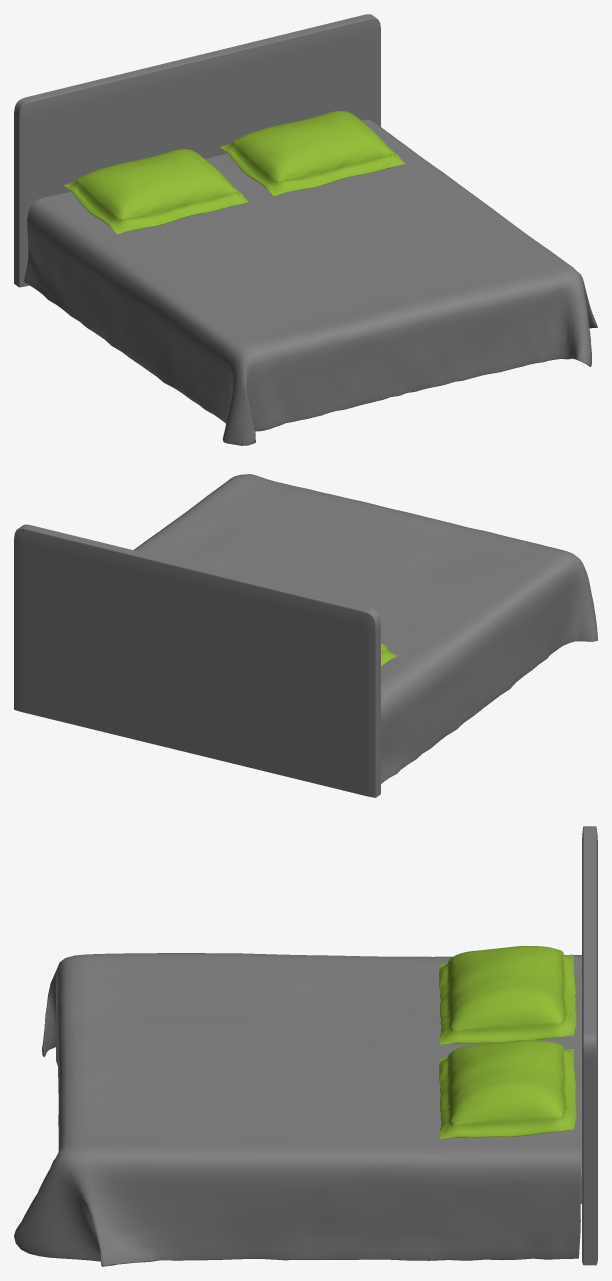
File: BED_RichGuy.FBX
3 views of the same model, one above another, from view 1: azimuth 30°, elevation 25°; view 2: azimuth 150°, elevation 25°; view 3: azimuth 270°, elevation 25° (orthographic). The views are drawn at different scales.
Visible parts, largest first — view 1: Object001; view 2: Object001; view 3: Object001.
Boxes of the visible parts, x1,y1,x2,y2 form: Object001: [14, 14, 597, 445]; Object001: [14, 474, 597, 797]; Object001: [14, 826, 597, 1266].
Size of the model in its own units: 212 by 95.46 by 223.
